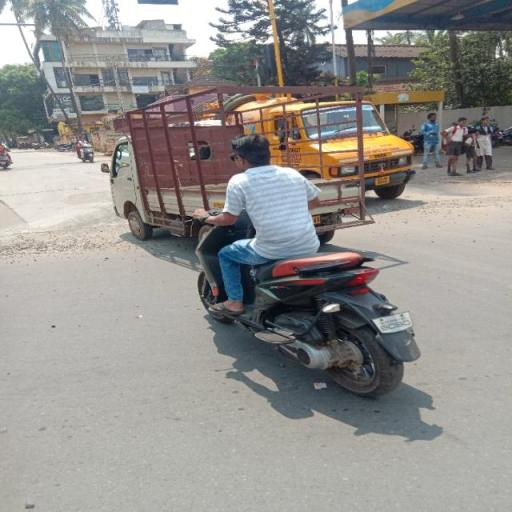bike: (185, 132, 429, 396)
withouthelmet: (232, 135, 270, 167)
